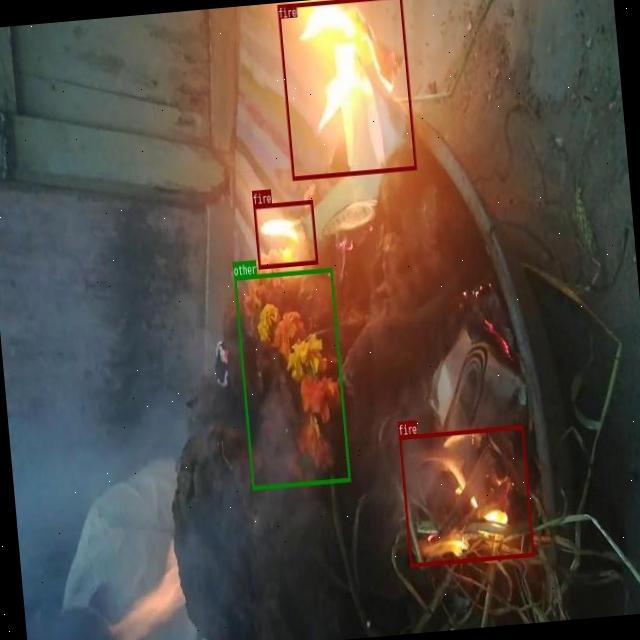fire: (276, 0, 416, 180), (398, 424, 534, 566), (253, 199, 317, 268)
